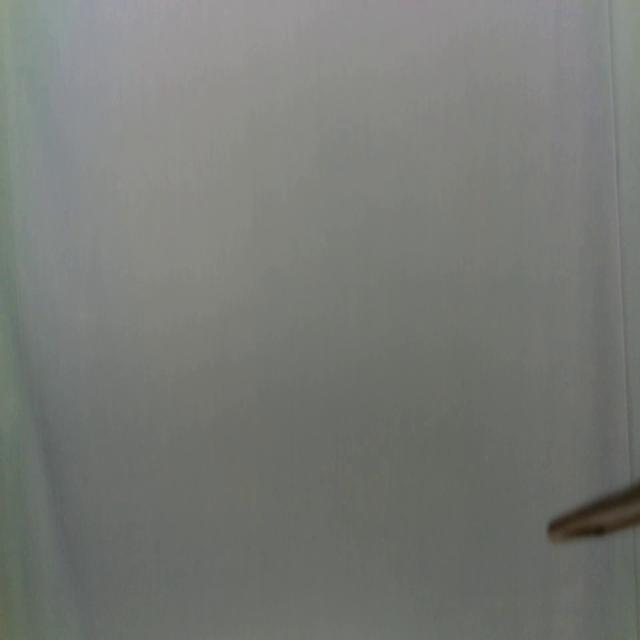crease: (608, 0, 633, 482)
